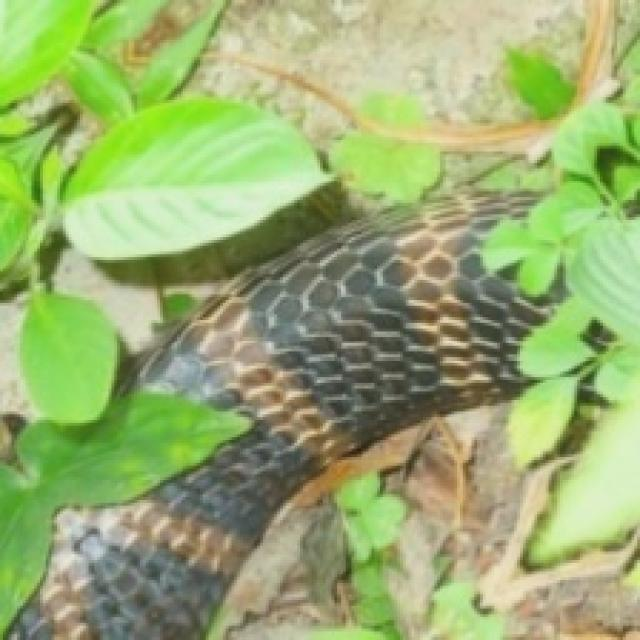king cobra: (0, 0, 637, 637), (303, 383, 534, 566), (160, 177, 429, 320), (51, 243, 174, 354), (249, 483, 340, 600)
